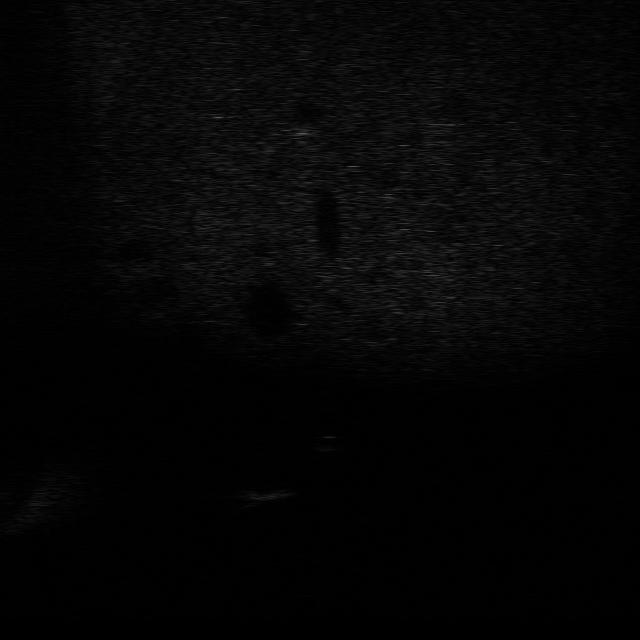ball: (306, 430, 346, 454)
square cage: (236, 482, 300, 514)
